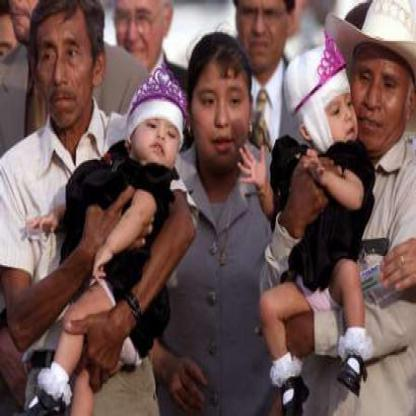face: (349, 13, 414, 154), (191, 35, 252, 172), (35, 1, 96, 129), (305, 59, 362, 159), (133, 84, 188, 174), (115, 1, 166, 74), (238, 1, 289, 74)
